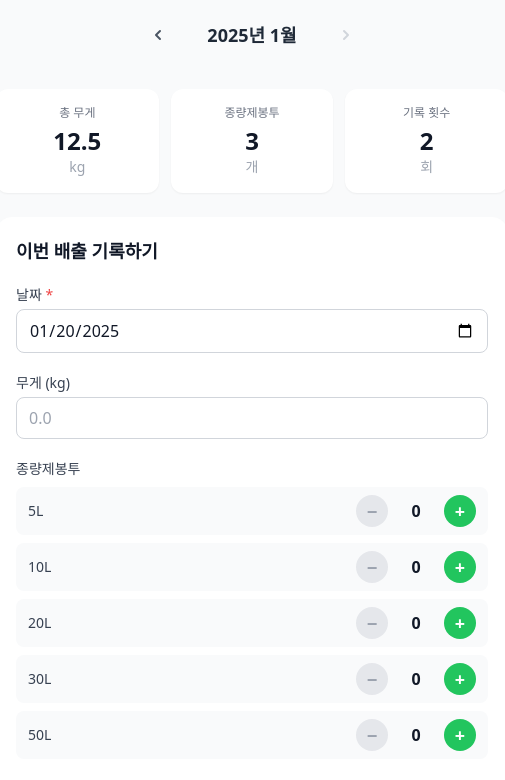
Scenario: LogPage 배출량 기록 페이지 › 이전 월 버튼 클릭 시 월이 변경되고 데이터를 다시 가져온다
Expected: the text "2025년 1월" is shown, [207,23,297,47]
//  이전 월 클릭
Click the button named "이전 월". click: (158, 35)
box: [140,17,176,53]
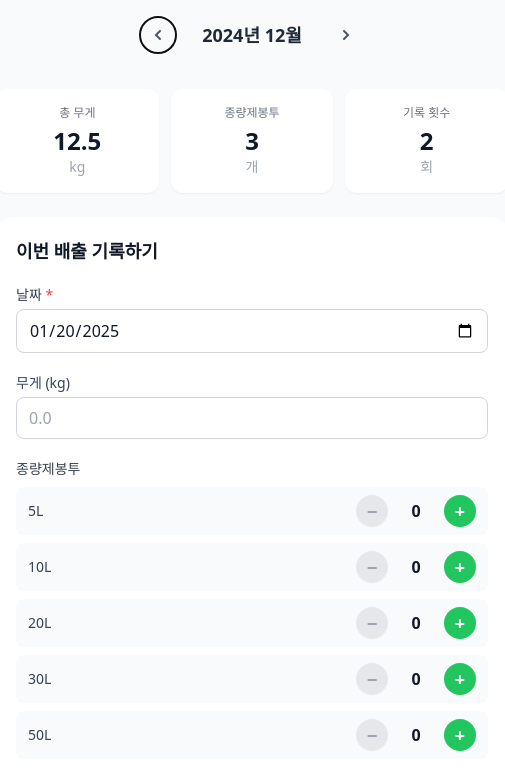
Result: the text "2024년 12월" is shown at [202,23,302,47]
